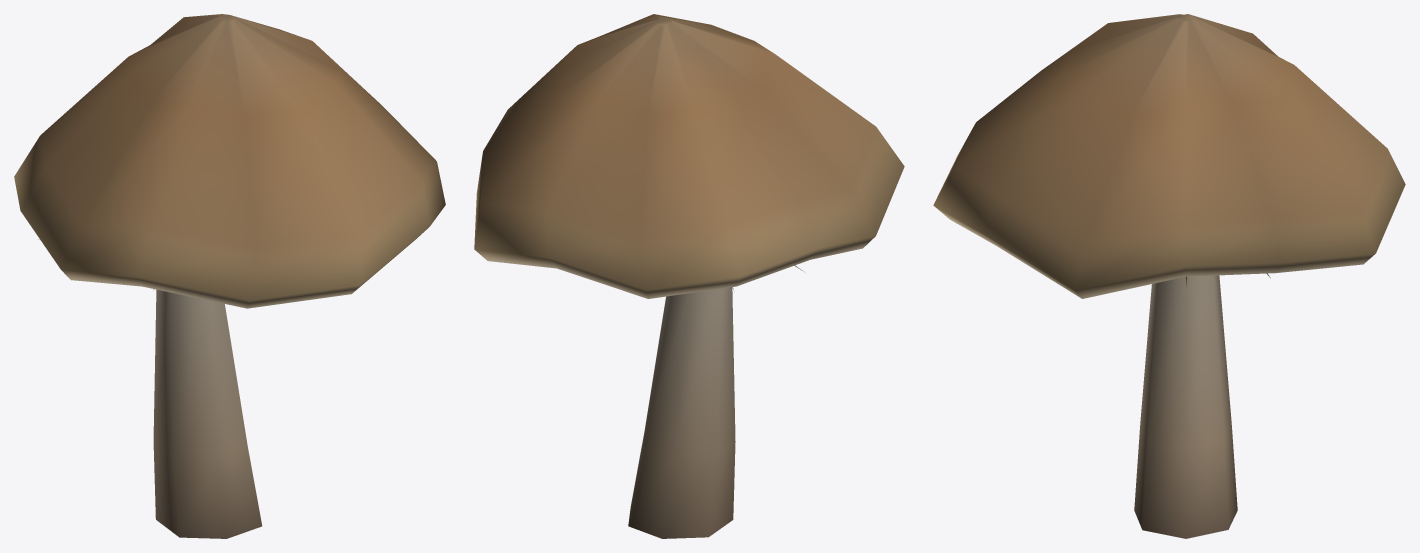
File: glow.mushroom-v1.glb
3 renders of one model, left to right at view 1: azimuth 30°, elevation 25°; view 2: azimuth 150°, elevation 25°; view 3: azimuth 270°, elevation 25°, orthographic. The views are drawn at different scales.
Visible parts, largest first — view 1: glow.mushroom; view 2: glow.mushroom; view 3: glow.mushroom.
Boxes of the visible parts, x1=… form: glow.mushroom: x1=14, y1=14, x2=445, y2=538; glow.mushroom: x1=474, y1=14, x2=904, y2=538; glow.mushroom: x1=933, y1=14, x2=1405, y2=538.
Bounding box in the file's own units: 0.7377 × 0.9861 × 0.835.
